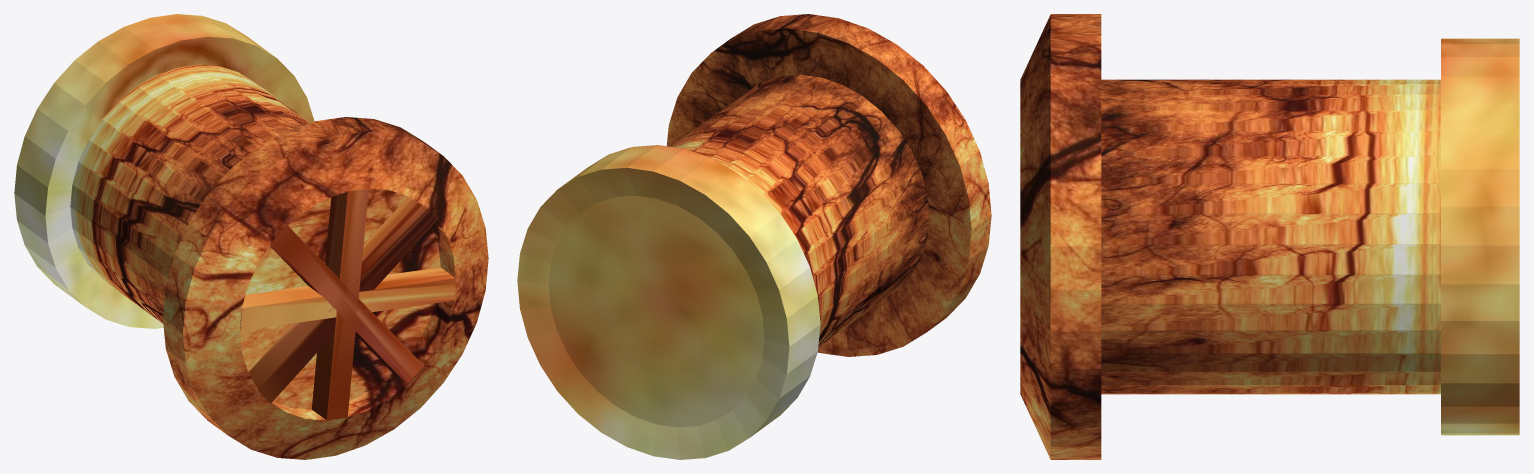
The model's file is ButoirCirculaire.obj.
3 renders of one model, left to right at view 1: azimuth 30°, elevation 25°; view 2: azimuth 150°, elevation 25°; view 3: azimuth 270°, elevation 25°, orthographic. The views are drawn at different scales.
Visible parts, largest first — view 1: Cylinder.001; view 2: Cylinder.001; view 3: Cylinder.001.
Boxes of the visible parts, x1,y1,x2,y2 form: Cylinder.001: (14, 14, 488, 459); Cylinder.001: (517, 14, 991, 459); Cylinder.001: (1020, 14, 1519, 459).
Bounding box in the file's own units: 28.33 × 28.33 × 31.67.
